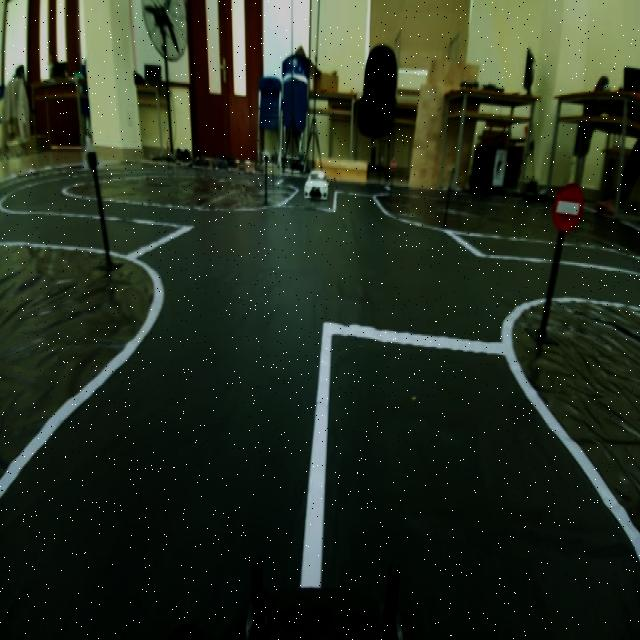no_entry: (549, 170, 587, 238)
